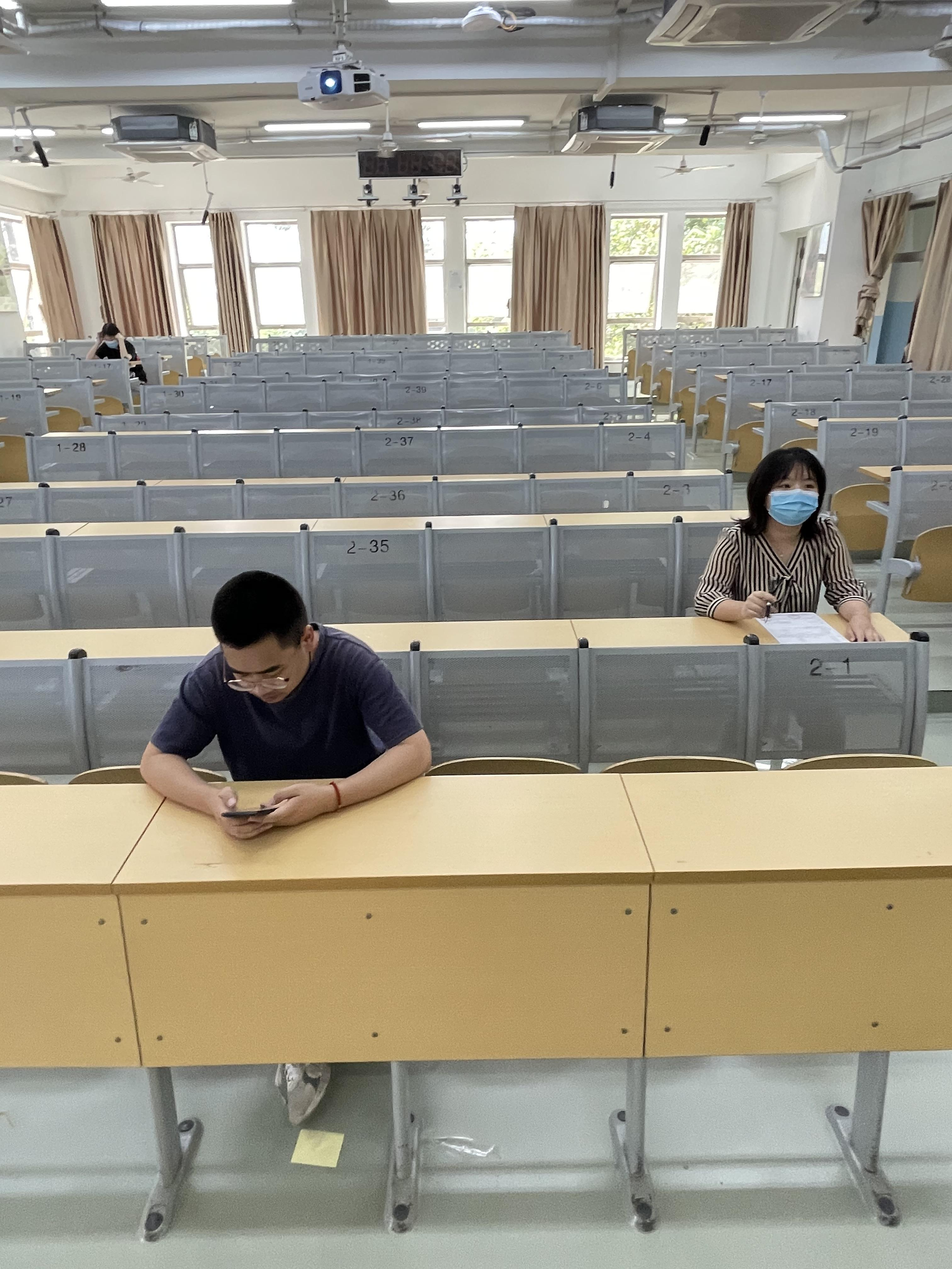phone: (143, 570, 432, 838)
study: (697, 450, 883, 640)
